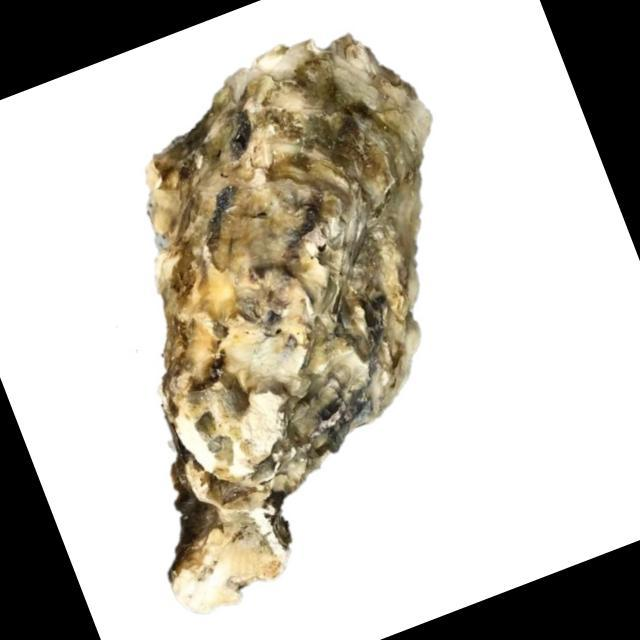Oyster- Indeterminate: (144, 34, 434, 616)
